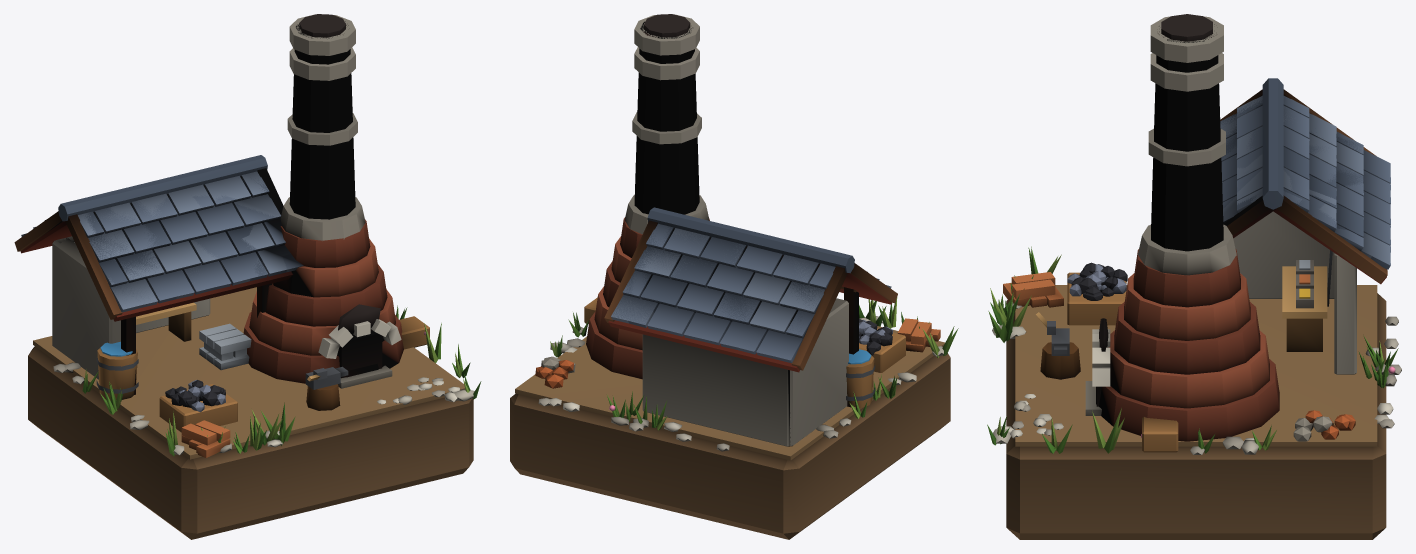
The model's file is smelter.glb.
The picture shows the model from 3 angles, left to right: view 1: azimuth 30°, elevation 25°; view 2: azimuth 150°, elevation 25°; view 3: azimuth 270°, elevation 25°; orthographic projection. The views are drawn at different scales.
Parts seen in each view (by area): view 1: smelter_l1, smelter_l3, smelter_l2; view 2: smelter_l1, smelter_l3, smelter_l2; view 3: smelter_l1, smelter_l3, smelter_l2.
Boxes of the visible parts, x1,y1,x2,y2 form: smelter_l1: (14,47,474,539); smelter_l3: (33,14,481,457); smelter_l2: (45,176,459,456); smelter_l1: (510,47,950,539); smelter_l3: (538,14,940,441); smelter_l2: (538,226,958,431); smelter_l1: (988,53,1398,539); smelter_l3: (987,14,1398,454); smelter_l2: (990,99,1401,453).
Size of the model in its own units: 0.9351 by 1.16 by 0.9176.
